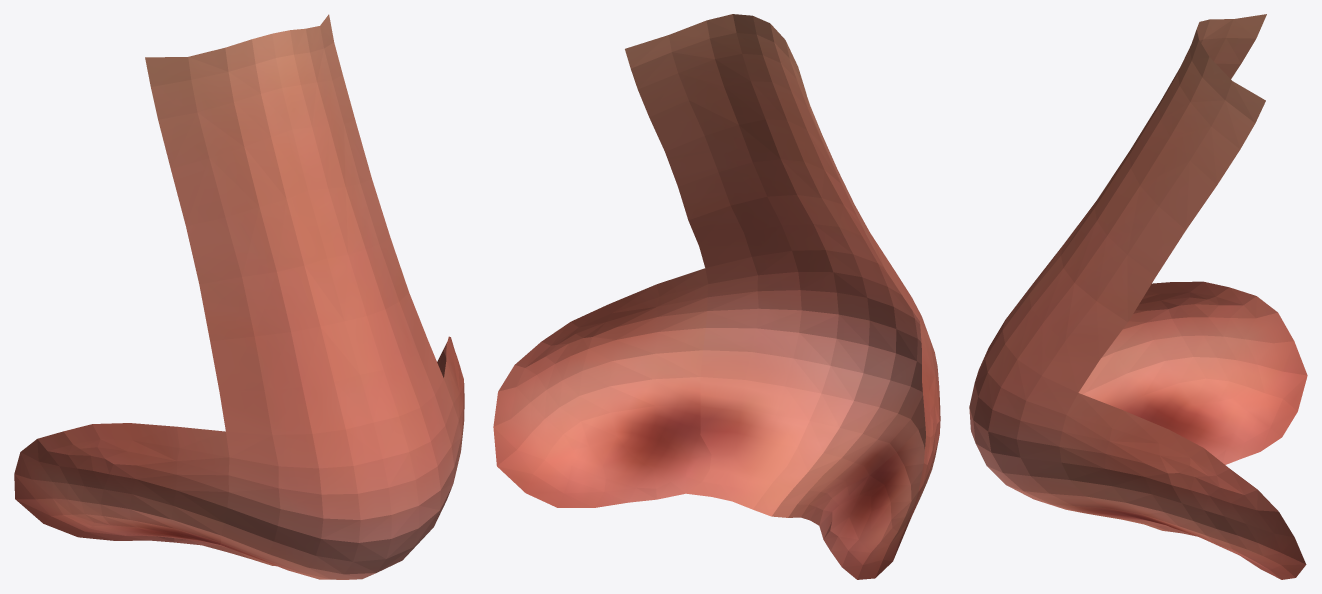
Rendered from euro-nose-sellion-down.obj.
3 renders of one model, left to right at view 1: azimuth 30°, elevation 25°; view 2: azimuth 150°, elevation 25°; view 3: azimuth 270°, elevation 25°, orthographic. The views are drawn at different scales.
Parts seen in each view (by area): view 1: euro-nose-sellion-dow.001; view 2: euro-nose-sellion-dow.001; view 3: euro-nose-sellion-dow.001.
Part boxes in pixels (box(x1,y1,x2,y2)): euro-nose-sellion-dow.001: box(14, 14, 464, 579); euro-nose-sellion-dow.001: box(493, 14, 940, 579); euro-nose-sellion-dow.001: box(969, 14, 1307, 579).
Size of the model in its own units: 0.3477 by 0.4075 by 0.2513.
1 material, 1 textured.
